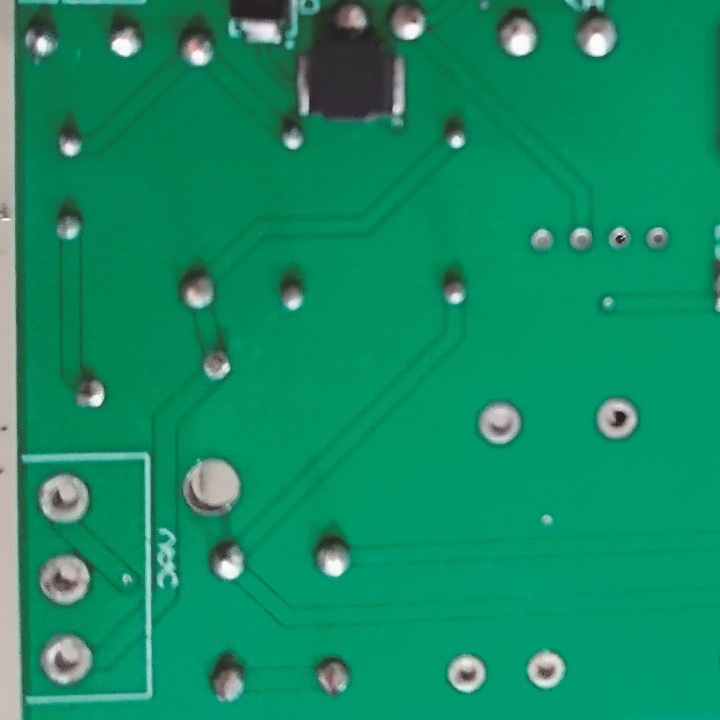F: (36, 551, 94, 609), (35, 470, 91, 528), (39, 630, 94, 687), (477, 398, 526, 448), (591, 395, 639, 446), (444, 650, 489, 698), (523, 648, 569, 690), (642, 220, 674, 254), (563, 223, 596, 253), (602, 222, 635, 252), (527, 226, 559, 255)
